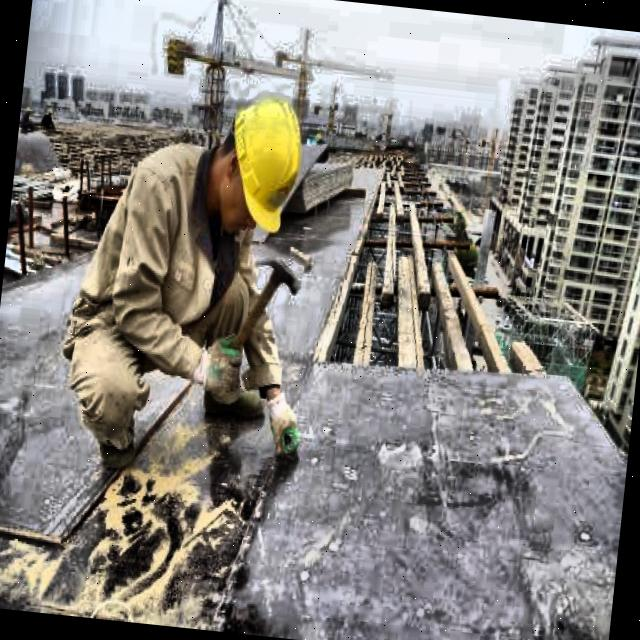helmet: (200, 76, 320, 248)
